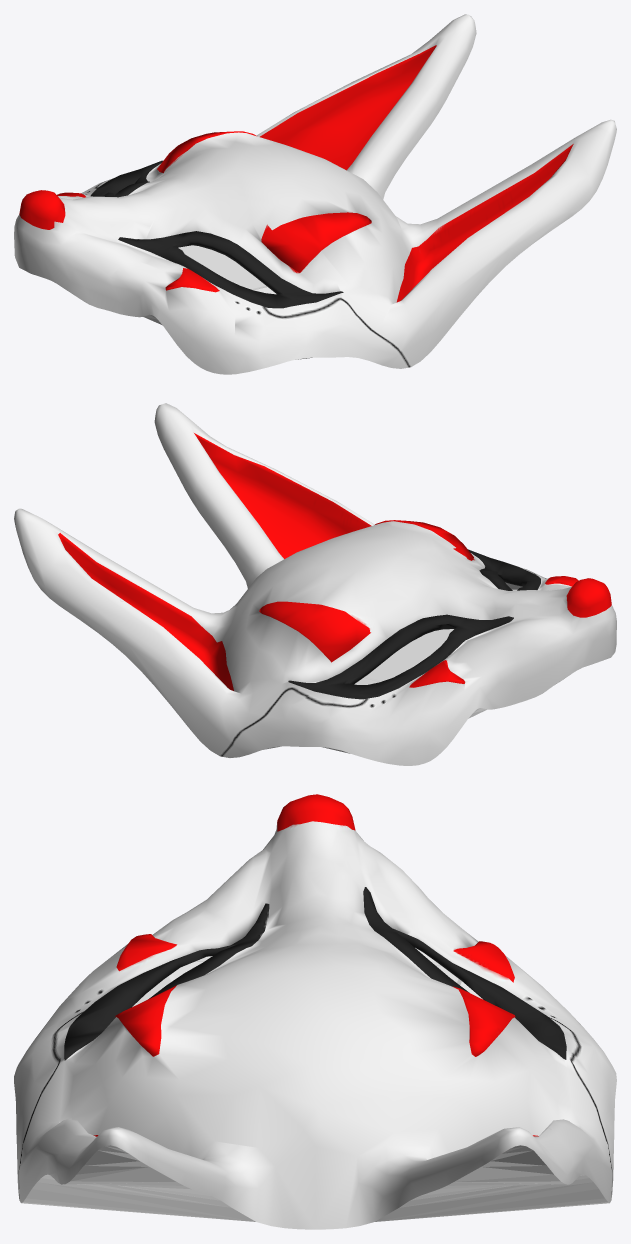
File: KitsuneMask_Ground.fbx
The picture shows the model from 3 angles, top to bottom: view 1: azimuth 30°, elevation 25°; view 2: azimuth 150°, elevation 25°; view 3: azimuth 270°, elevation 25°; orthographic projection. The views are drawn at different scales.
Visible parts, largest first — view 1: Kitsune.001; view 2: Kitsune.001; view 3: Kitsune.001.
Boxes of the visible parts, left/top/right/bottom form: Kitsune.001: left=14, top=14, right=616, bottom=374; Kitsune.001: left=14, top=403, right=616, bottom=765; Kitsune.001: left=14, top=794, right=616, bottom=1229.
Size of the model in its own units: 0.1451 by 0.0435 by 0.1031.
